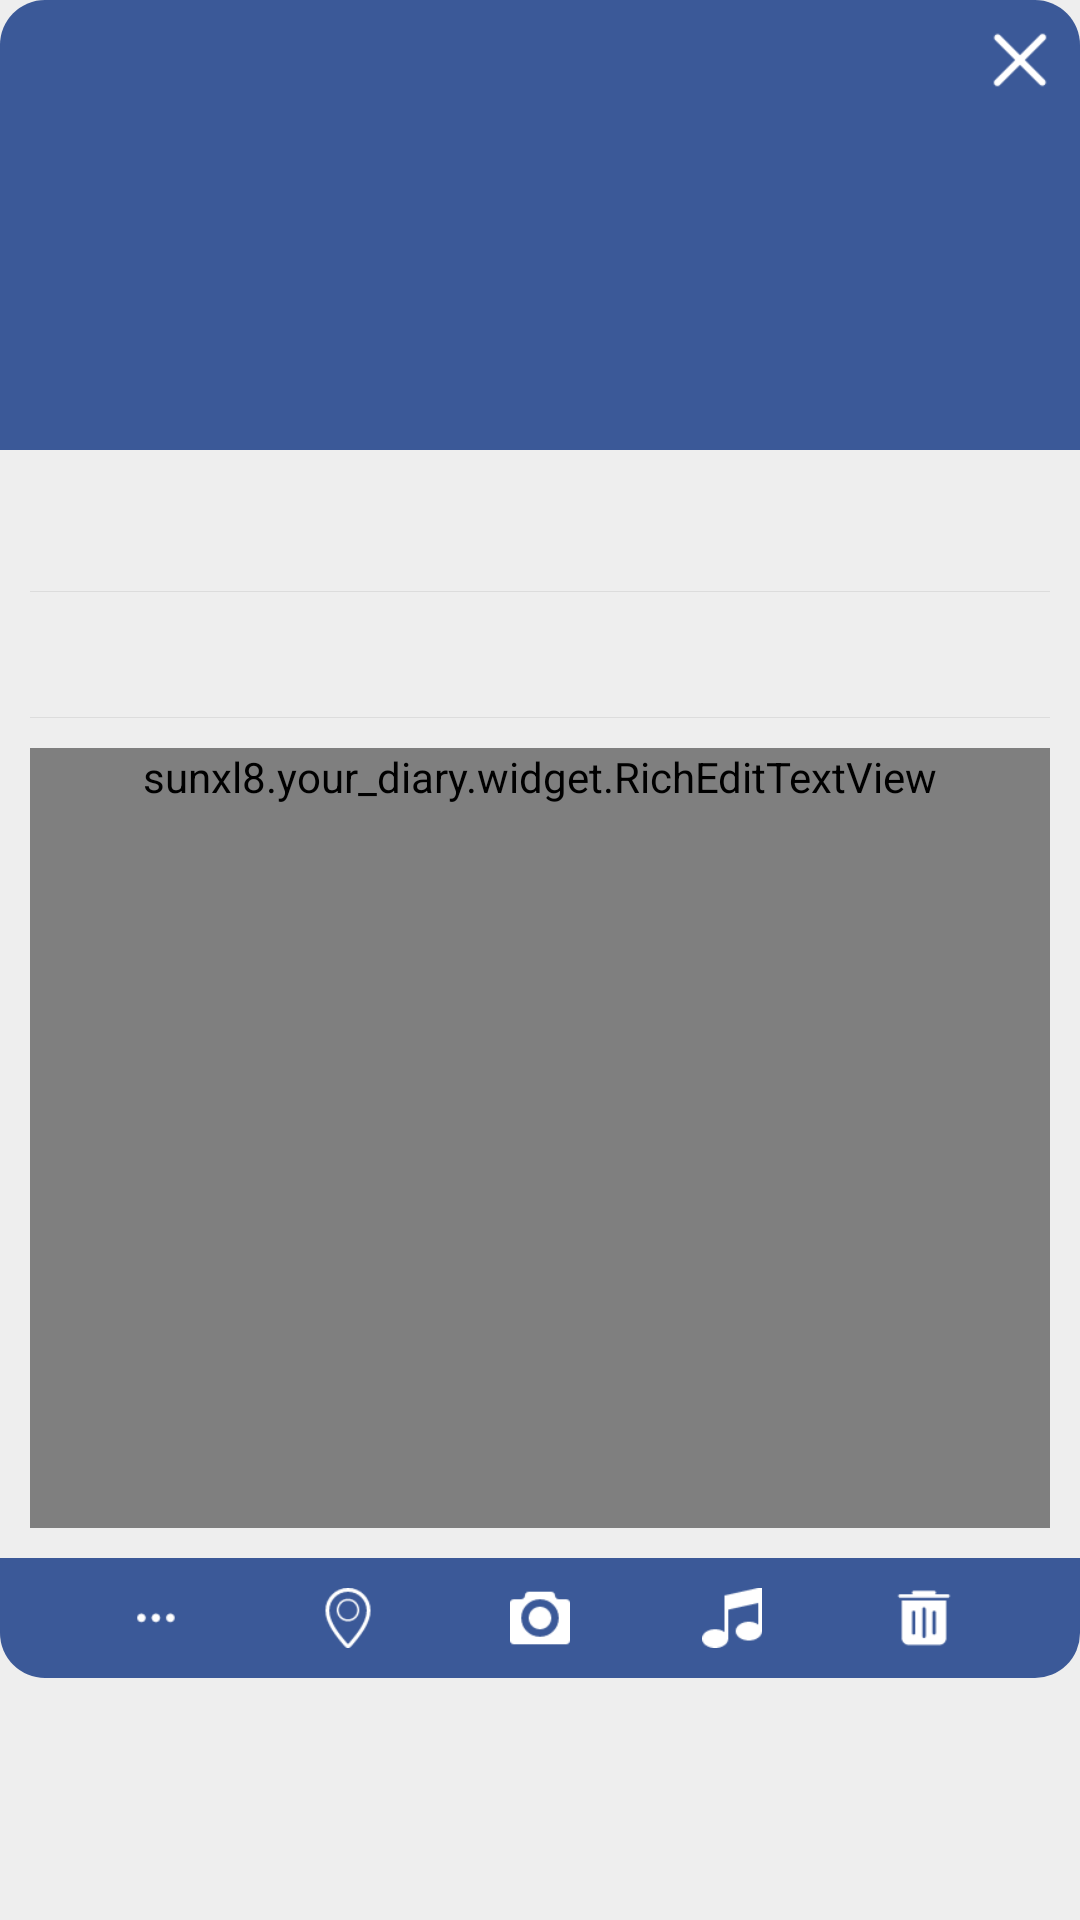

Screen size 1080px×1920px. Icon name, then its box in pixels as (x1, y1, x2, y2):
camera: (510, 1591, 570, 1645)
close: (993, 33, 1047, 87)
location: (325, 1588, 371, 1648)
more: (137, 1613, 175, 1623)
music: (702, 1588, 762, 1648)
recycle: (898, 1590, 950, 1646)
